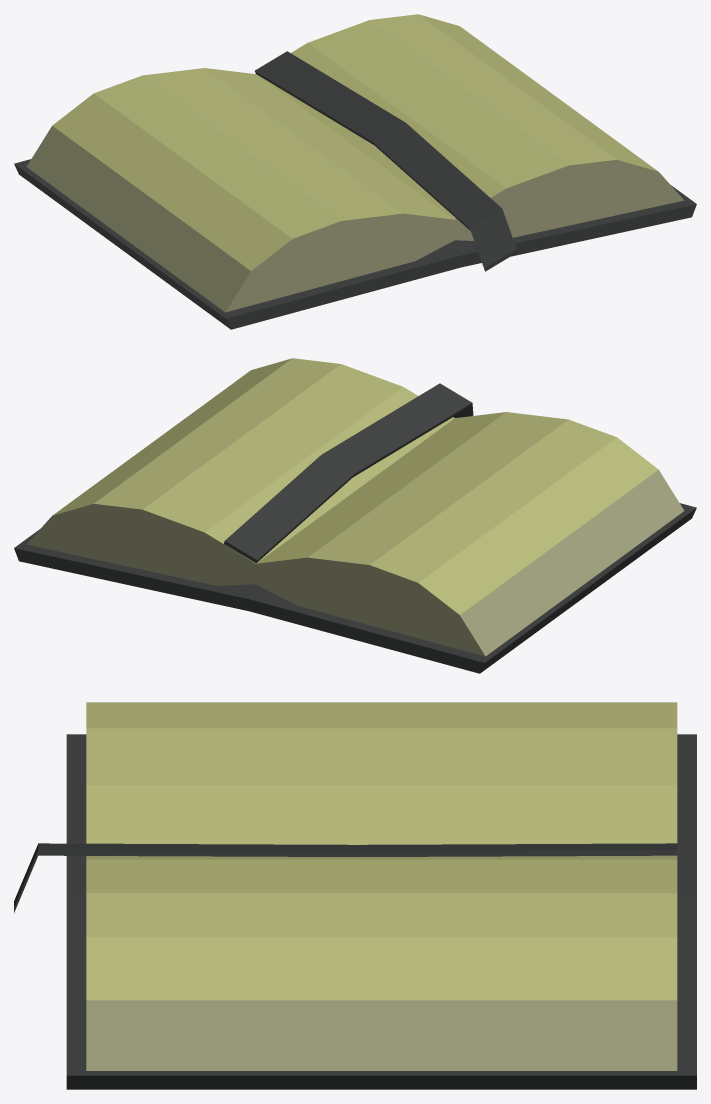
File: Book_3_Black.fbx
3 views of the same model, one above another, from view 1: azimuth 30°, elevation 25°; view 2: azimuth 150°, elevation 25°; view 3: azimuth 270°, elevation 25° (orthographic). The views are drawn at different scales.
Parts seen in each view (by area): view 1: Book_3_Black_Part_2, Book_3_Black_Part_1, Book_3_Black_Part_4, Book_3_Black_Part_3; view 2: Book_3_Black_Part_2, Book_3_Black_Part_1, Book_3_Black_Part_3, Book_3_Black_Part_4; view 3: Book_3_Black_Part_2, Book_3_Black_Part_1, Book_3_Black_Part_3, Book_3_Black_Part_4.
Part boxes in pixels (bbox=[...]): Book_3_Black_Part_2: bbox=[52, 14, 657, 270]; Book_3_Black_Part_1: bbox=[26, 126, 684, 312]; Book_3_Black_Part_4: bbox=[255, 51, 517, 271]; Book_3_Black_Part_3: bbox=[14, 159, 696, 329]; Book_3_Black_Part_2: bbox=[53, 358, 658, 614]; Book_3_Black_Part_1: bbox=[26, 470, 684, 656]; Book_3_Black_Part_3: bbox=[14, 503, 696, 673]; Book_3_Black_Part_4: bbox=[224, 383, 473, 563]; Book_3_Black_Part_2: bbox=[86, 702, 677, 1000]; Book_3_Black_Part_1: bbox=[86, 1000, 677, 1070]; Book_3_Black_Part_3: bbox=[66, 734, 696, 1089]; Book_3_Black_Part_4: bbox=[14, 843, 677, 912].
Size of the model in its own units: 41 by 6.27 by 34.68.
